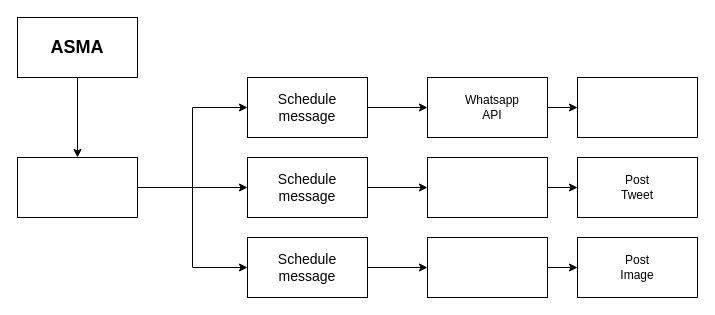
This 715x315 diagram has some shape labels left out. Each missing label, with the box of its shape:
Instragram API: (426, 236, 548, 298)
Post message: (576, 76, 698, 138)
Twitter API: (426, 156, 548, 218)
User: (16, 156, 138, 218)
